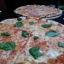basil: (1, 38, 16, 52), (27, 46, 43, 58), (43, 27, 60, 38), (40, 23, 55, 31), (14, 20, 26, 29), (1, 30, 13, 37), (21, 29, 31, 37), (54, 38, 64, 46), (27, 20, 35, 27)
pizza: (2, 17, 64, 64), (15, 4, 62, 20)
